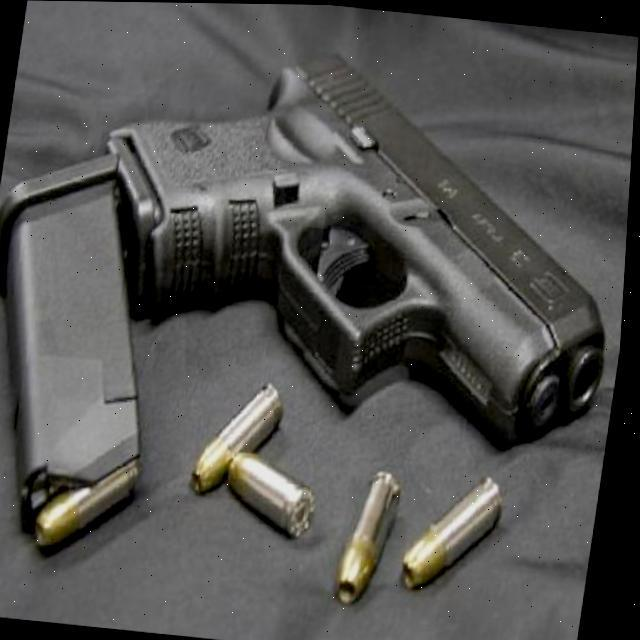gun: (69, 32, 638, 450)
